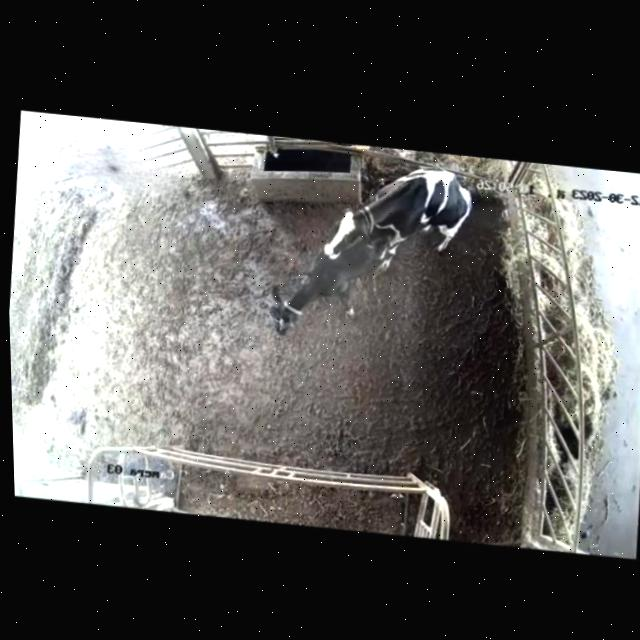ride: (311, 154, 487, 286)
stand: (243, 222, 405, 358)
